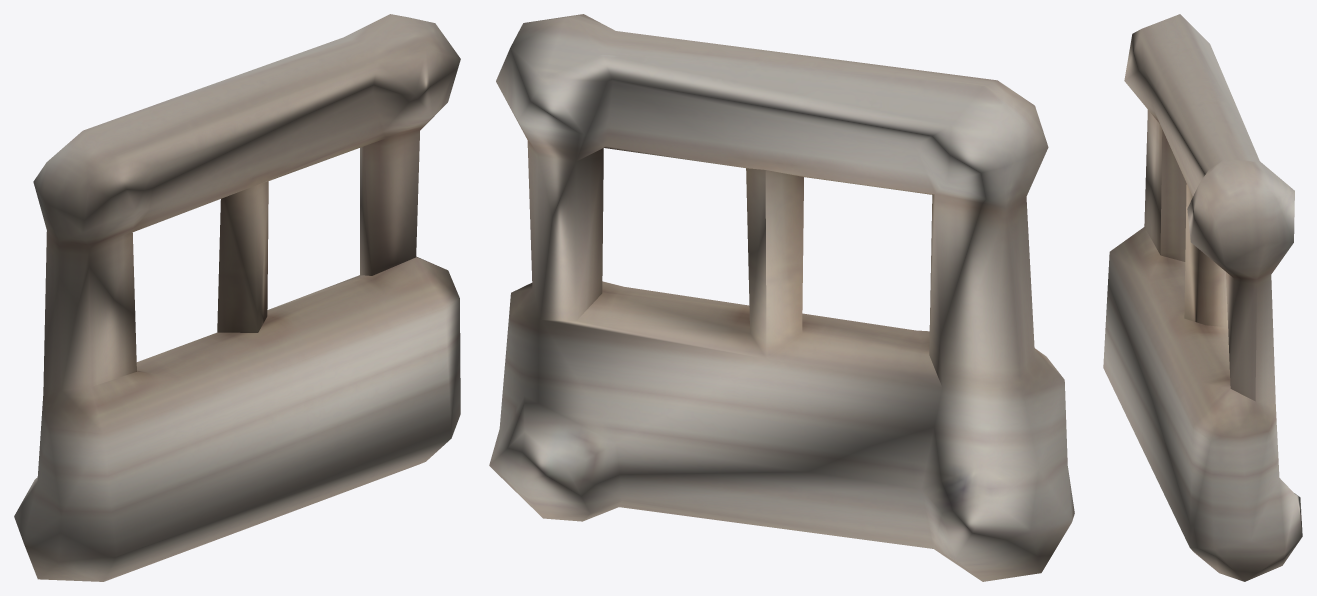
File: windows.obj
3 renders of one model, left to right at view 1: azimuth 30°, elevation 25°; view 2: azimuth 150°, elevation 25°; view 3: azimuth 270°, elevation 25°, orthographic. The views are drawn at different scales.
Parts seen in each view (by area): view 1: Windowsgeom1; view 2: Windowsgeom1; view 3: Windowsgeom1.
Boxes of the visible parts, x1,y1,x2,y2 form: Windowsgeom1: [14, 14, 460, 581]; Windowsgeom1: [489, 14, 1074, 581]; Windowsgeom1: [1103, 14, 1302, 581].
Size of the model in its own units: 2.49 by 2.29 by 1.
Materials: 1 (1 with a texture image).
